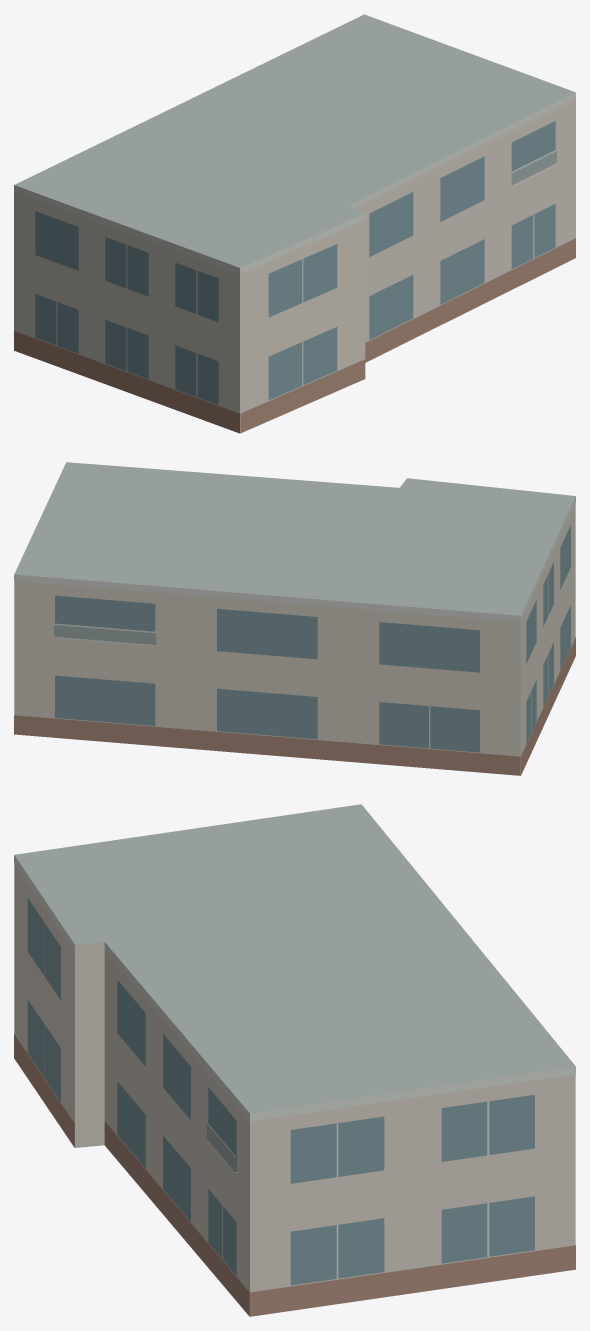
The model's file is survey-upis-32760537.glb.
The picture shows the model from 3 angles, top to bottom: view 1: azimuth 30°, elevation 25°; view 2: azimuth 150°, elevation 25°; view 3: azimuth 270°, elevation 25°; orthographic projection. The views are drawn at different scales.
Visible parts, largest first — view 1: survey-upis-32760537.tmp; view 2: survey-upis-32760537.tmp; view 3: survey-upis-32760537.tmp.
Boxes of the visible parts, bbox=[...] form: survey-upis-32760537.tmp: bbox=[14, 14, 575, 433]; survey-upis-32760537.tmp: bbox=[14, 462, 575, 775]; survey-upis-32760537.tmp: bbox=[14, 804, 575, 1316].
Size of the model in its own units: 19.91 by 6.1 by 15.28.
